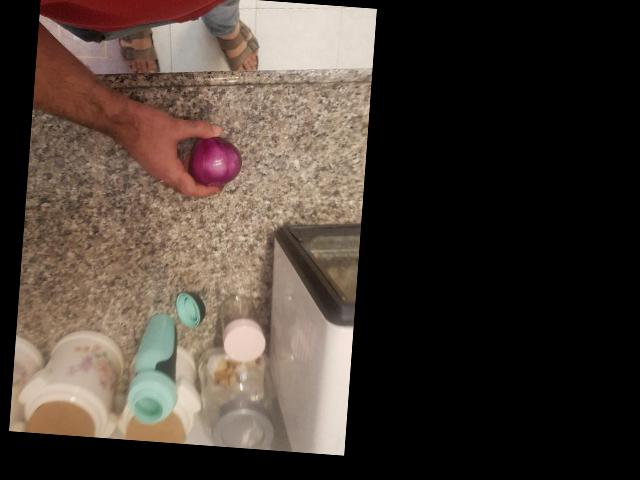onion: (276, 267, 334, 327)
